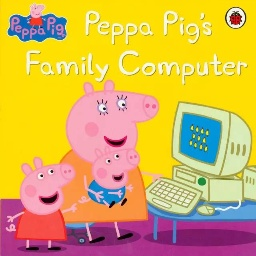Peppa: (5, 156, 79, 252)
